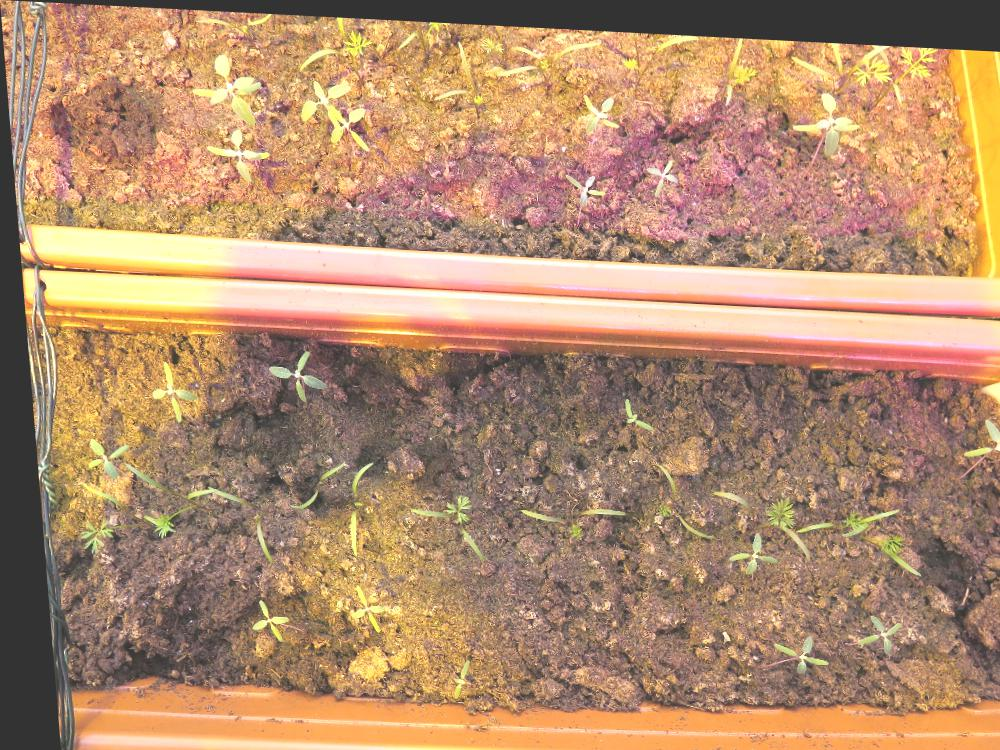weed: (183, 48, 262, 124), (200, 121, 271, 181), (257, 344, 322, 401), (139, 356, 193, 422), (759, 620, 820, 668), (952, 403, 999, 464), (716, 521, 771, 570), (236, 593, 282, 642), (841, 602, 893, 645), (336, 577, 376, 629), (578, 84, 617, 129), (561, 164, 604, 200), (641, 149, 678, 190), (614, 389, 651, 424), (437, 651, 460, 695)
